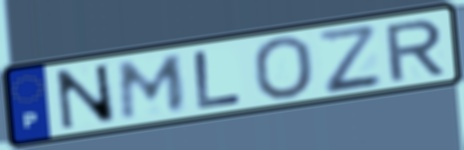L: (191, 48, 246, 112)
M: (118, 52, 188, 123)
N: (52, 62, 120, 132)
O: (250, 34, 316, 102)
R: (381, 16, 447, 84)
Z: (314, 23, 385, 96)
